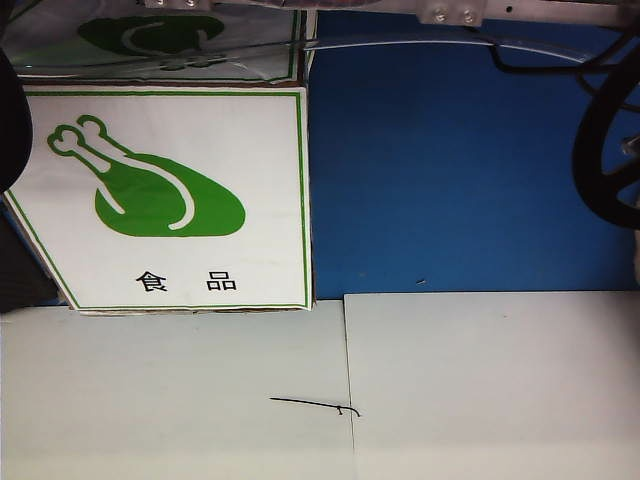Cube_food: (43, 108, 256, 301)
